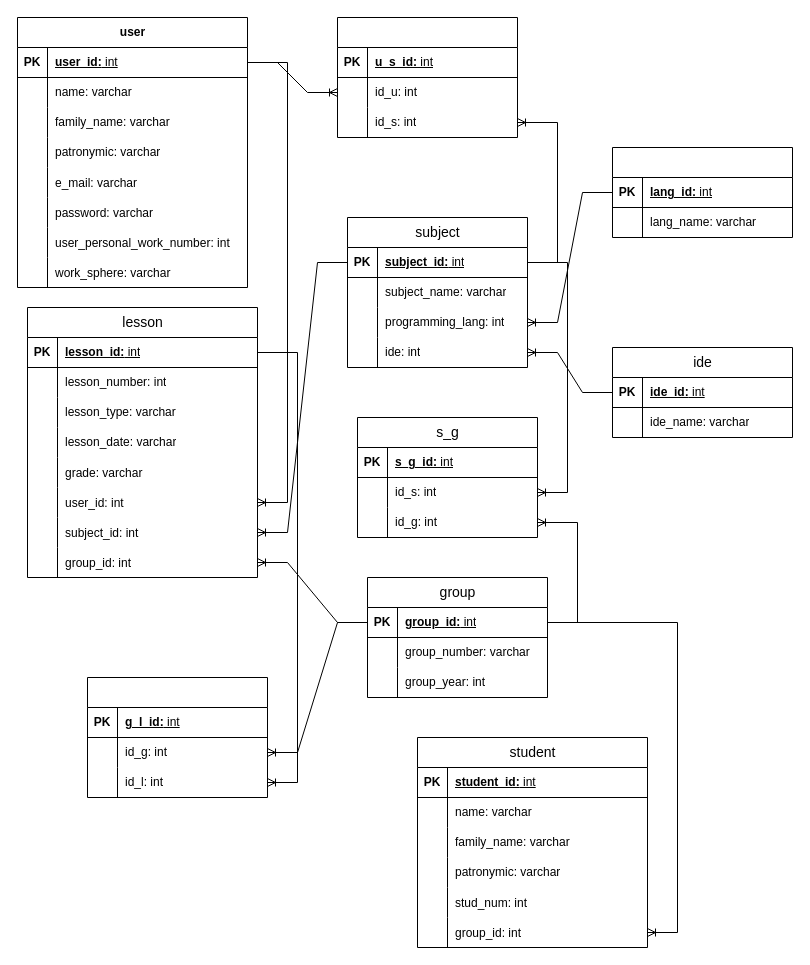
This 810x965 diagram has some shape labels left out. Here are the shapes that lost their labels. From the top down, the box of each, then its label:
(336, 16, 518, 138): u_s
(612, 146, 792, 238): p_lang
(86, 676, 268, 798): g_l
